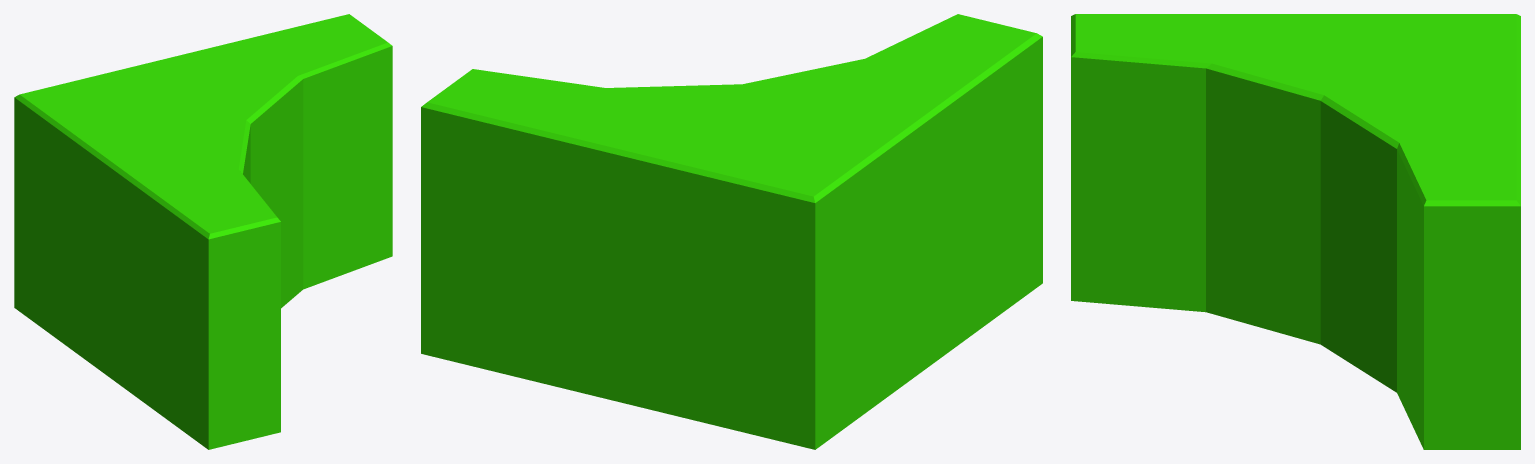
Rendered from round_5x3_03.fbx.
3 renders of one model, left to right at view 1: azimuth 30°, elevation 25°; view 2: azimuth 150°, elevation 25°; view 3: azimuth 270°, elevation 25°, orthographic. The views are drawn at different scales.
Parts seen in each view (by area): view 1: round_5x3_03; view 2: round_5x3_03; view 3: round_5x3_03.
Boxes of the visible parts, bbox=[...] form: round_5x3_03: bbox=[14, 14, 392, 449]; round_5x3_03: bbox=[421, 14, 1042, 449]; round_5x3_03: bbox=[1071, 14, 1520, 449].
Size of the model in its own units: 510 by 310 by 510.
